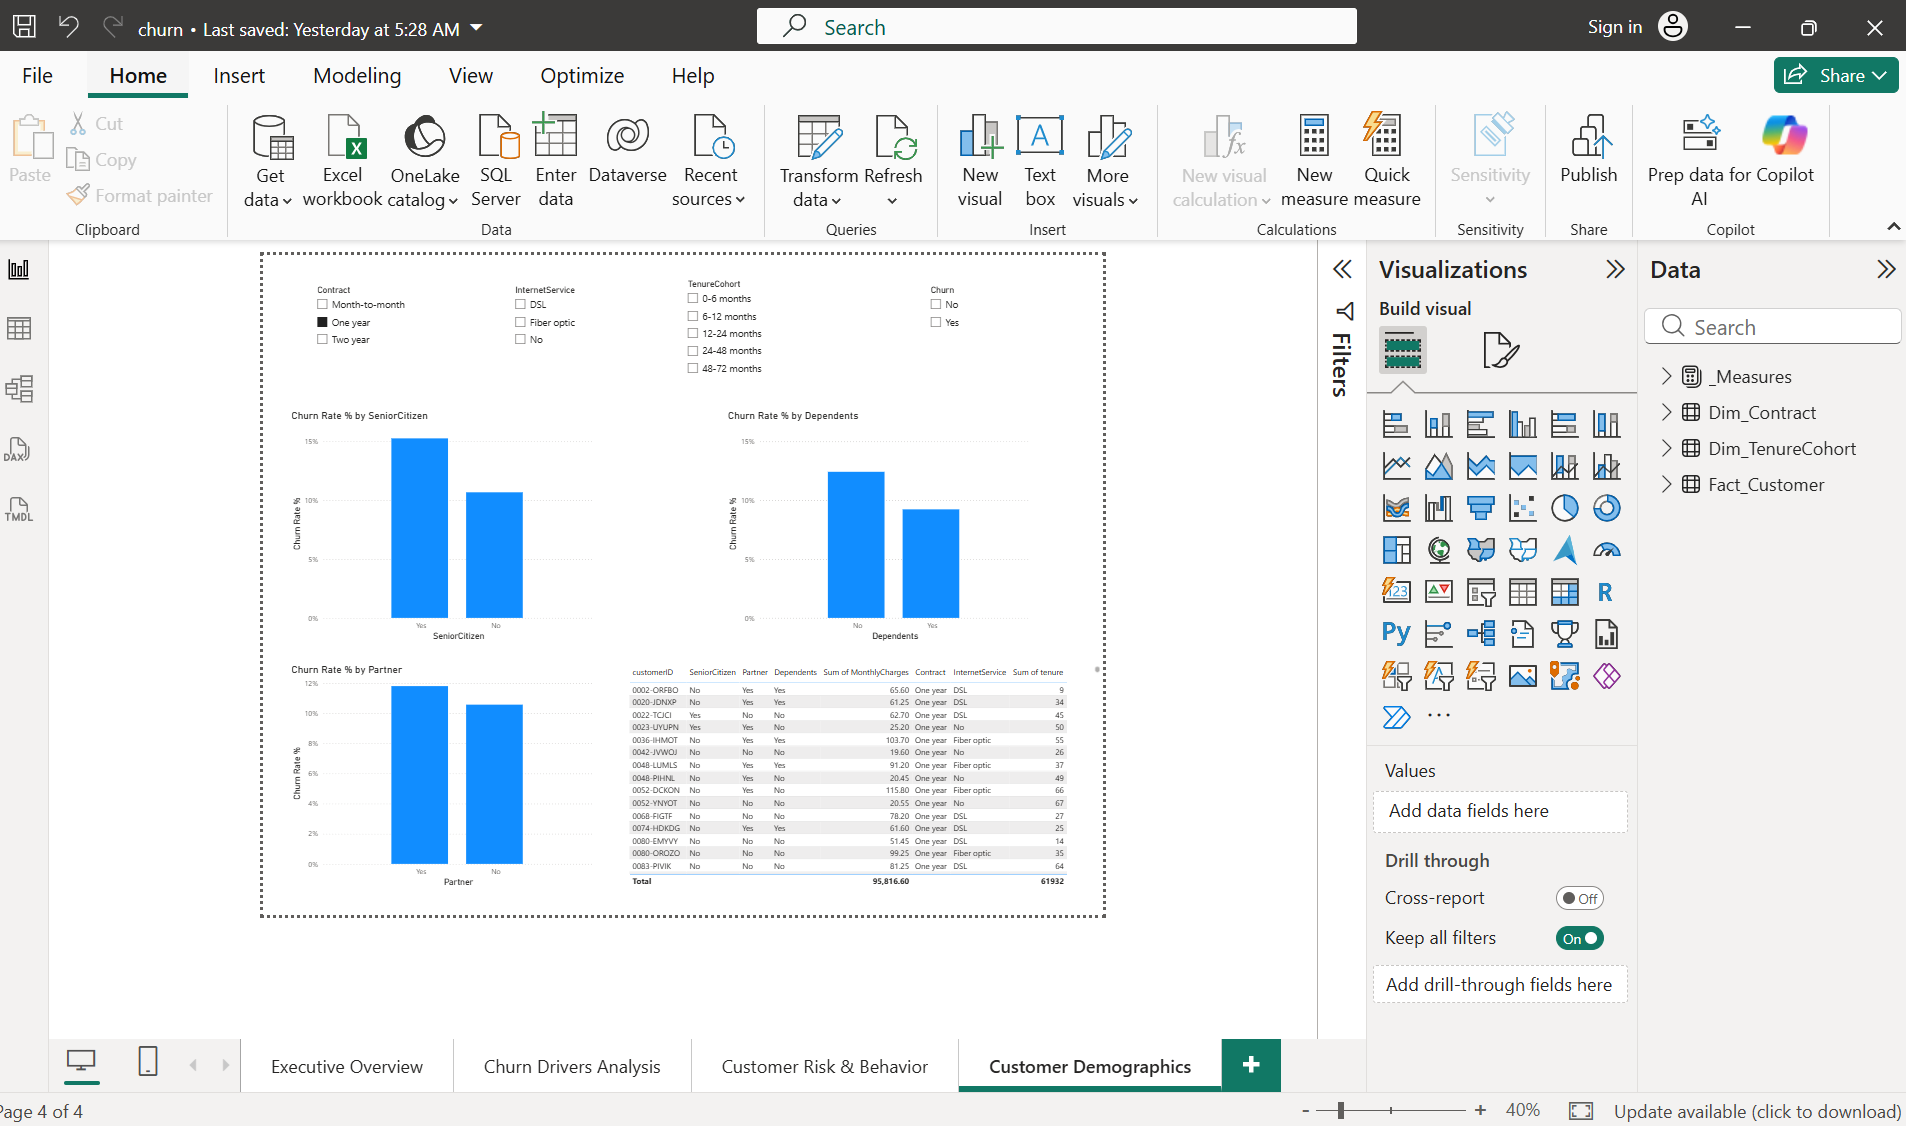

The dashboard page shown, as its layout file describes it:
{"tool":"powerbi","page":{"name":"Customer Demographics","canvas":[1400,1100],"ordinal":3},"visuals":[{"type":"clusteredColumnChart","fields":{"Category":["Fact_Customer.SeniorCitizen"],"Y":["_Measures.Churn Rate %"]},"box":[42.5,257.5,512.5,390],"z":0},{"type":"clusteredColumnChart","fields":{"Category":["Fact_Customer.Partner"],"Y":["_Measures.Churn Rate %"]},"box":[42.5,680,512.5,377.5],"z":1000},{"type":"clusteredColumnChart","fields":{"Category":["Fact_Customer.Dependents"],"Y":["_Measures.Churn Rate %"]},"box":[770,257.5,512.5,390],"z":2000},{"type":"tableEx","fields":{"Values":["Fact_Customer.customerID","Fact_Customer.SeniorCitizen","Fact_Customer.Partner","Fact_Customer.Dependents","Sum(Fact_Customer.MonthlyCharges)","Fact_Customer.Contract","Fact_Customer.InternetService","Sum(Fact_Customer.tenure)"]},"box":[605,680,795,377.5],"z":3000},{"type":"slicer","fields":{"Values":["Dim_Contract.Contract"]},"box":[77.5,45,257.5,175],"z":4000},{"type":"slicer","fields":{"Values":["Fact_Customer.InternetService"]},"box":[407.5,45,255,175],"z":5000},{"type":"slicer","fields":{"Values":["Dim_TenureCohort.TenureCohort"]},"box":[695,35,307.5,195],"z":6000},{"type":"slicer","fields":{"Values":["Fact_Customer.Churn"]},"box":[1100,45,255,175],"z":7000}]}

Visuals, with their boxes on the page's 1400x1100 design canvas (x1, y1, x2, y2). These are canvas units, not pixel positions in the 1906x1126 screenshot, which may show the page scaled, cropped or inside an application window:
clusteredColumnChart - Fact_Customer.SeniorCitizen x _Measures.Churn Rate %: (x1=42, y1=258, x2=555, y2=648)
clusteredColumnChart - Fact_Customer.Partner x _Measures.Churn Rate %: (x1=42, y1=680, x2=555, y2=1058)
clusteredColumnChart - Fact_Customer.Dependents x _Measures.Churn Rate %: (x1=770, y1=258, x2=1282, y2=648)
tableEx - Fact_Customer.customerID x Fact_Customer.SeniorCitizen: (x1=605, y1=680, x2=1400, y2=1058)
slicer - Dim_Contract.Contract: (x1=78, y1=45, x2=335, y2=220)
slicer - Fact_Customer.InternetService: (x1=408, y1=45, x2=662, y2=220)
slicer - Dim_TenureCohort.TenureCohort: (x1=695, y1=35, x2=1002, y2=230)
slicer - Fact_Customer.Churn: (x1=1100, y1=45, x2=1355, y2=220)
